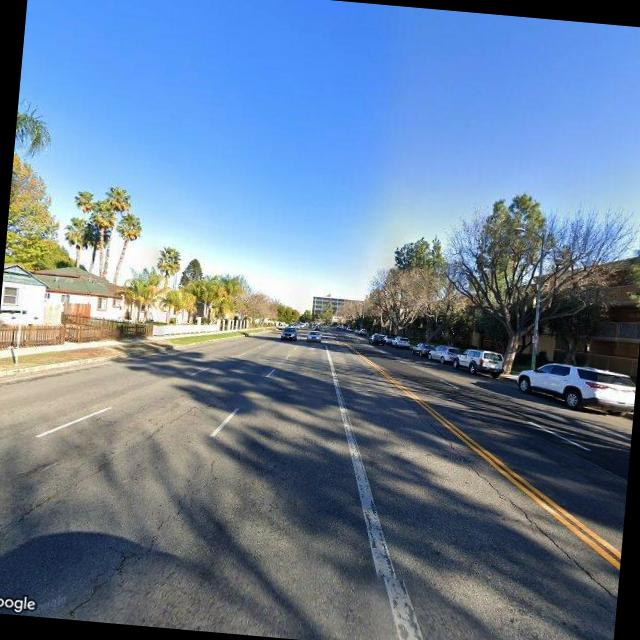crack: (400, 406, 629, 594), (51, 460, 213, 630), (0, 450, 105, 549)
